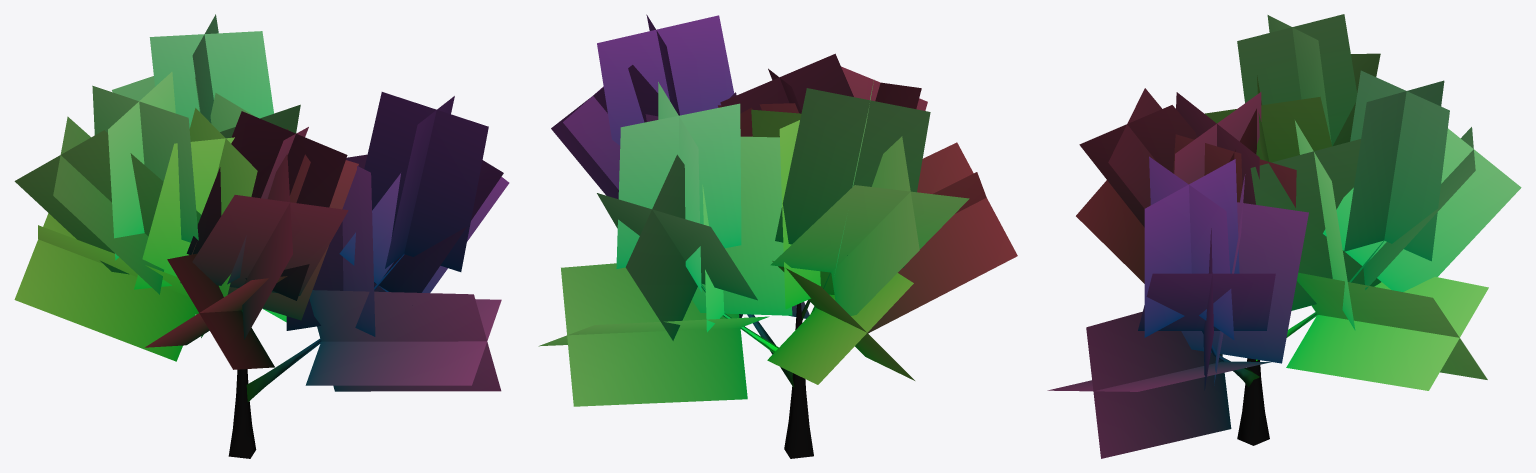
File: SuperTree_21.fbx
3 renders of one model, left to right at view 1: azimuth 30°, elevation 25°; view 2: azimuth 150°, elevation 25°; view 3: azimuth 270°, elevation 25°, orthographic. The views are drawn at different scales.
Parts seen in each view (by area): view 1: SuperTree_21; view 2: SuperTree_21; view 3: SuperTree_21.
Boxes of the visible parts, x1,y1,x2,y2 form: SuperTree_21: (14, 14, 509, 458); SuperTree_21: (538, 14, 1017, 458); SuperTree_21: (1047, 14, 1521, 458).
Bounding box in the file's own units: 706 × 590 × 670.
